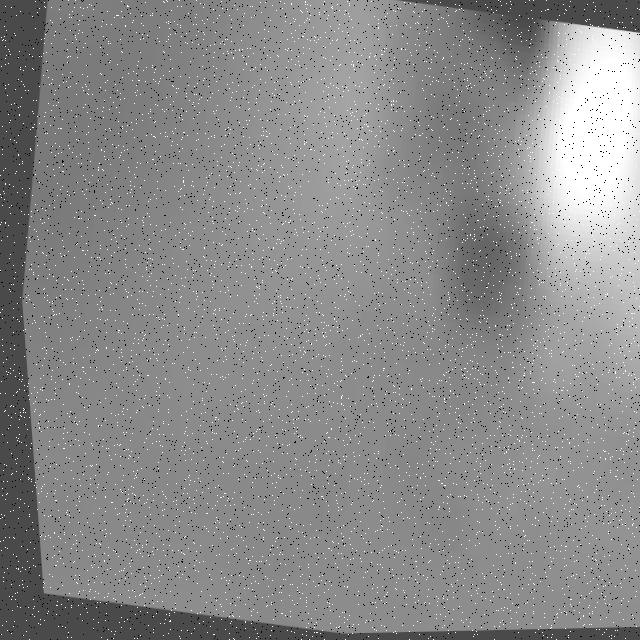person: (472, 18, 640, 379), (618, 40, 640, 309)
